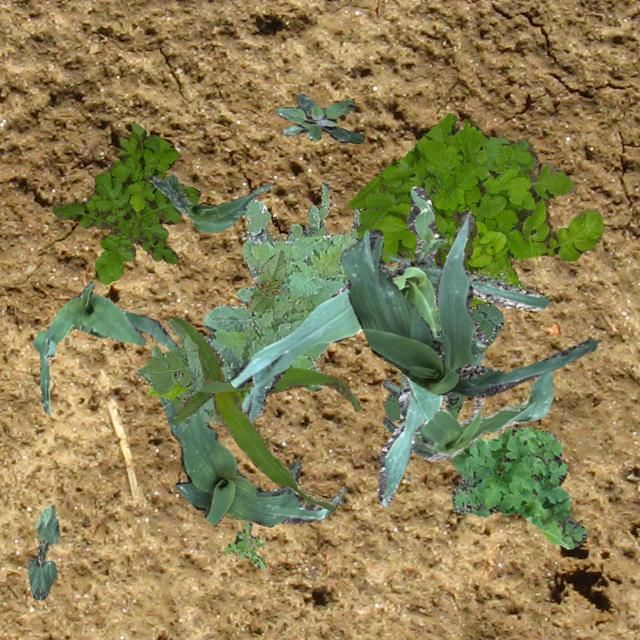crop: (230, 186, 550, 504), (340, 210, 600, 396), (170, 314, 358, 510), (158, 394, 345, 526), (32, 281, 178, 414), (382, 352, 552, 460), (147, 174, 270, 232), (26, 504, 58, 598), (247, 250, 286, 310), (147, 376, 190, 398)
weed: (347, 111, 602, 306), (182, 198, 396, 420), (52, 121, 200, 282), (383, 302, 502, 446), (450, 426, 586, 548), (136, 318, 220, 427), (274, 92, 364, 142), (286, 180, 359, 240), (432, 210, 477, 268), (222, 520, 264, 568)
